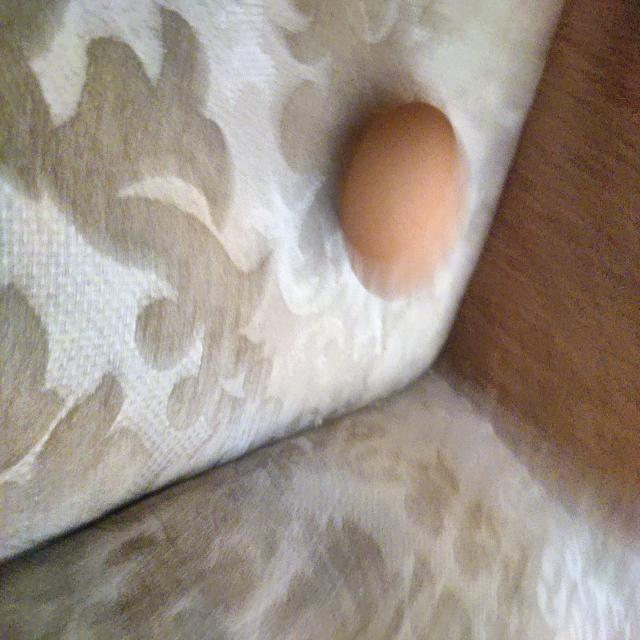egg: (335, 97, 465, 307)
